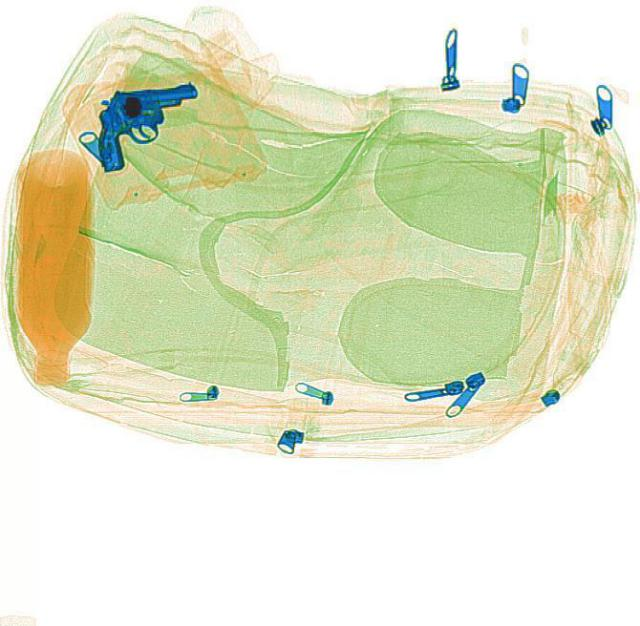Gun: (88, 74, 208, 175)
